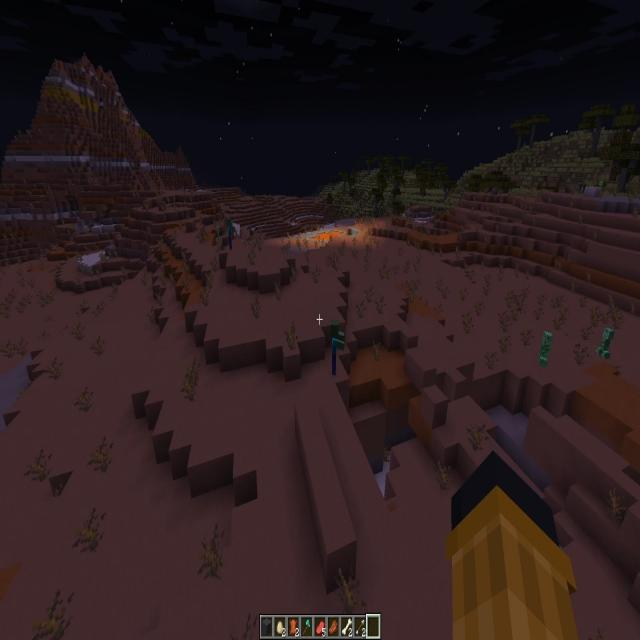Creeper: (599, 329, 613, 359), (541, 332, 549, 368), (216, 226, 220, 241)
Zombie: (330, 320, 340, 374), (226, 222, 235, 248)
